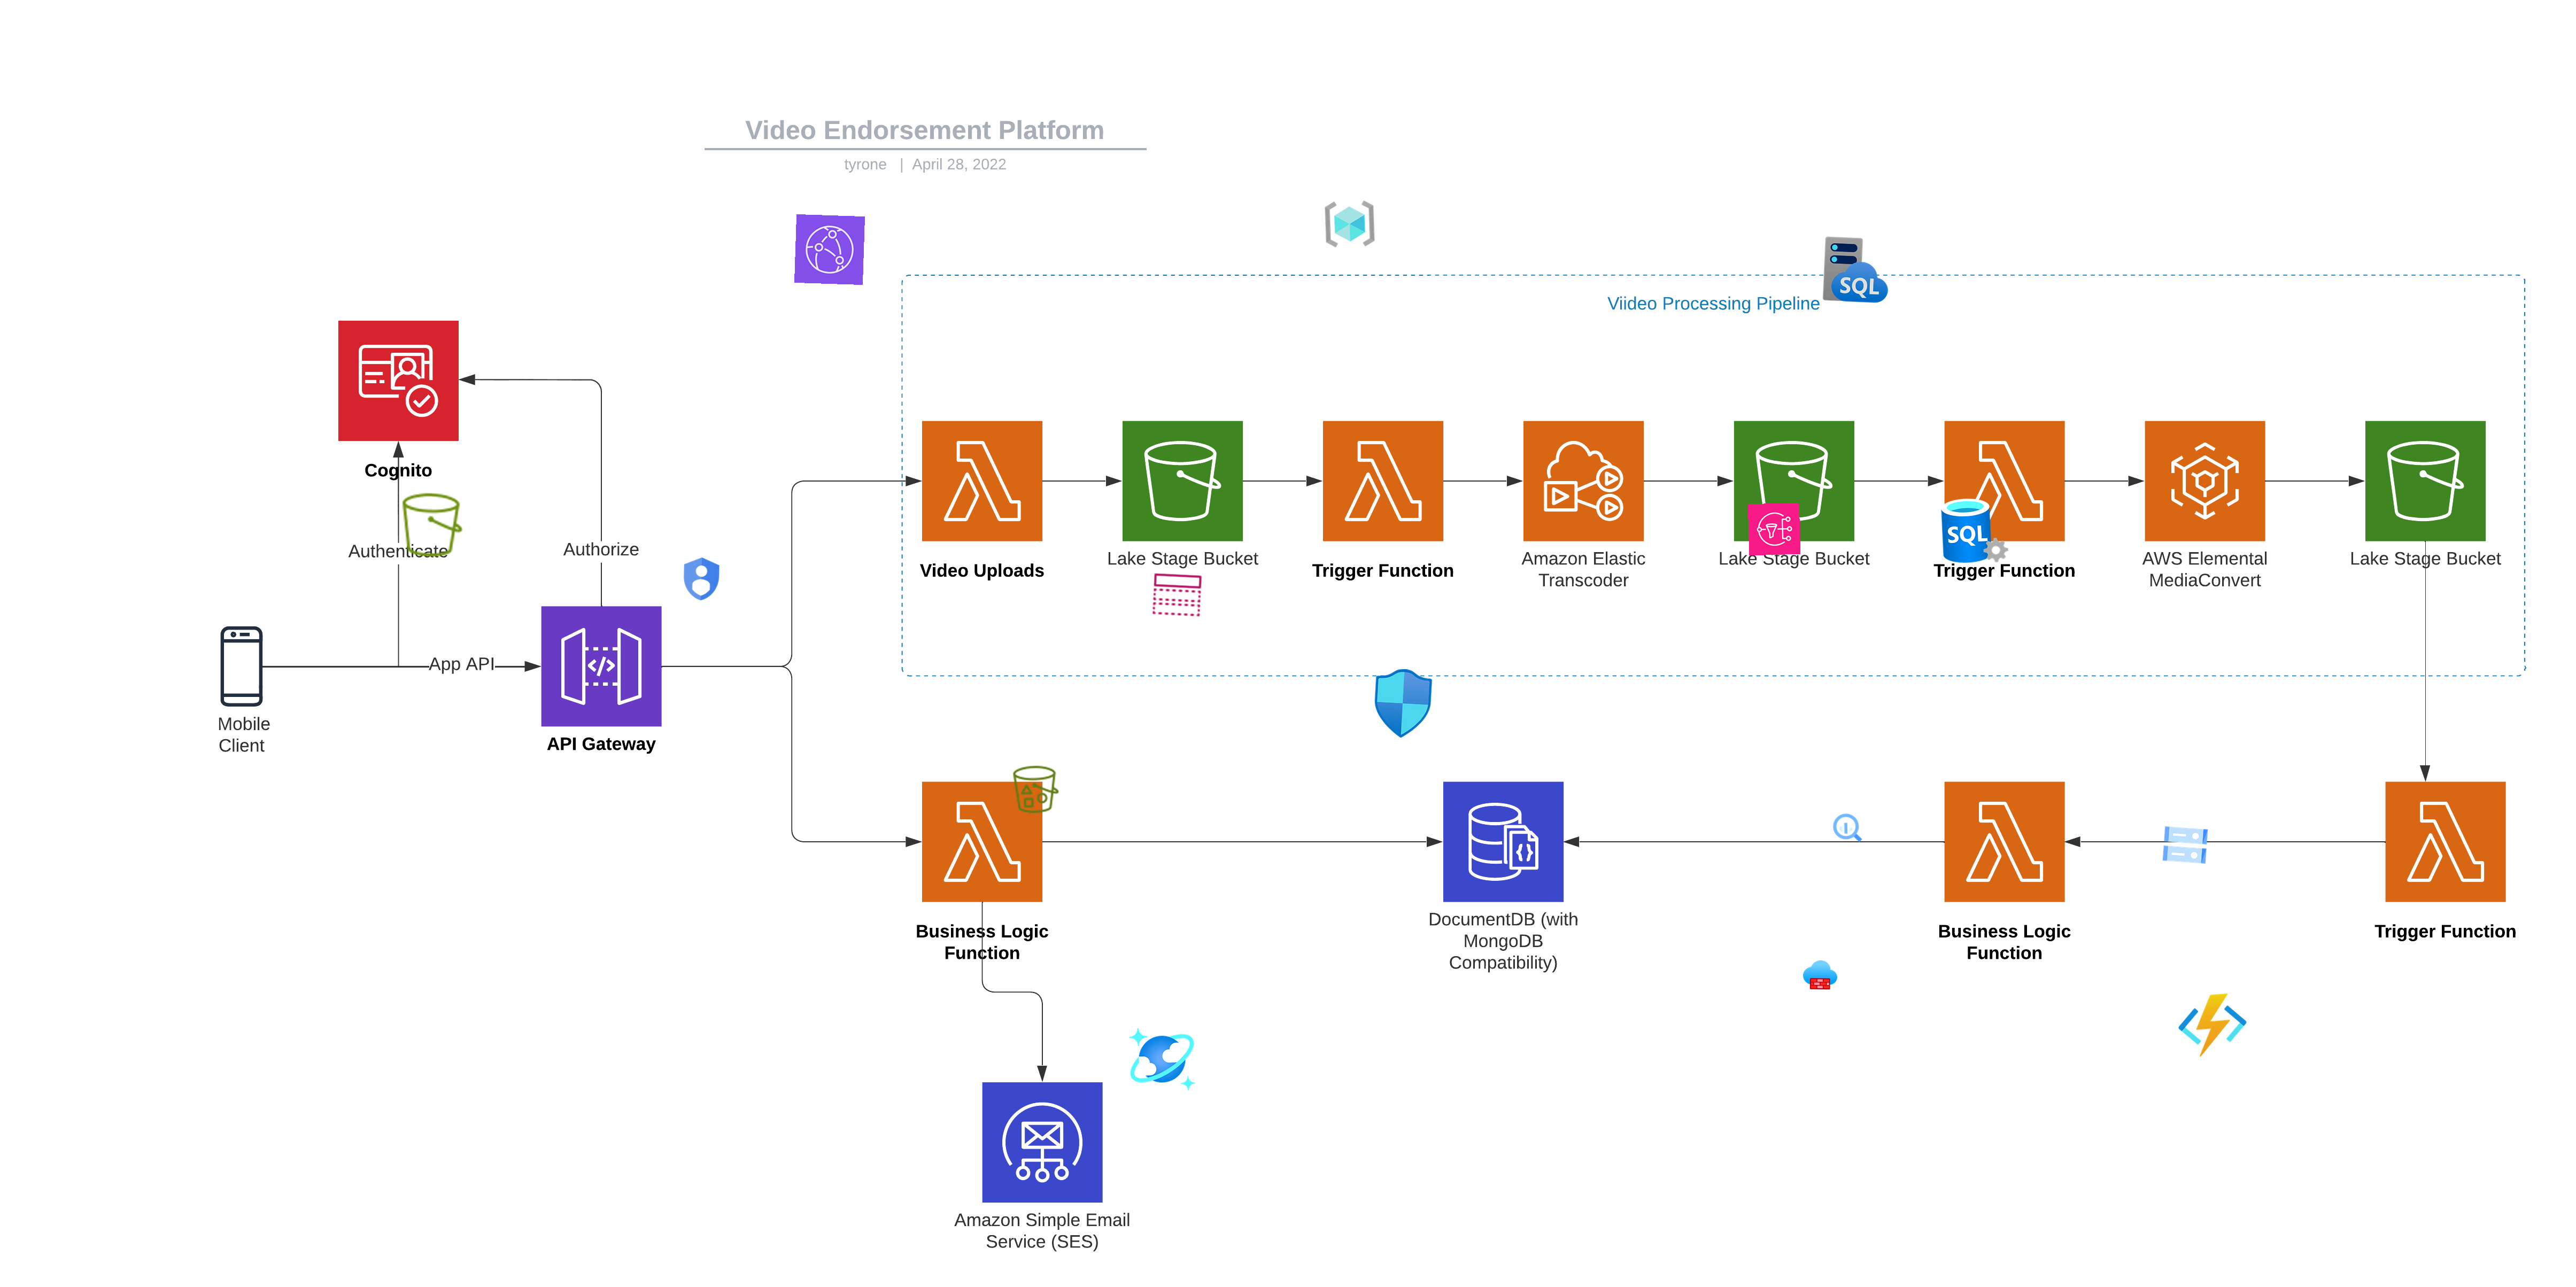aws_amazon_cloudfront: (794, 213, 866, 286)
aws_amazon_simple_notification_service: (1748, 502, 1801, 556)
aws_simple_notification_service_topic: (1150, 568, 1204, 622)
aws_simple_storage_service_bucket_with_objects: (1010, 763, 1063, 816)
aws_simple_storage_service_s3_standard: (396, 489, 467, 560)
azure_cosmos_db: (1127, 1023, 1198, 1095)
azure_firewalls: (1802, 957, 1838, 993)
azure_function_apps: (2175, 988, 2251, 1062)
azure_network_security_groups: (1367, 666, 1439, 740)
azure_resource_groups: (1323, 197, 1377, 251)
azure_sql_managed_instance: (1820, 235, 1893, 305)
azure_sql_server: (1939, 494, 2011, 566)
gcp_bigquery: (1830, 811, 1865, 845)
gcp_cloud_storage: (2157, 818, 2213, 873)
gcp_identity_and_access_management: (675, 552, 728, 606)
